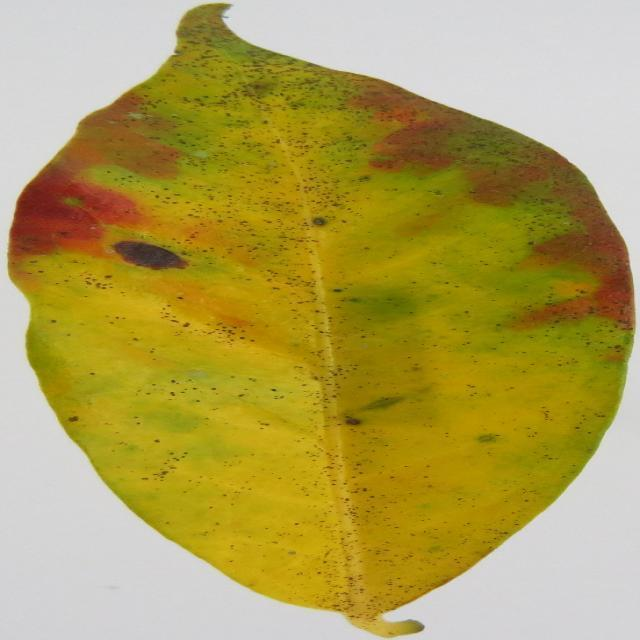DeficienciaNutricional-Fosforo: (9, 4, 634, 636)
